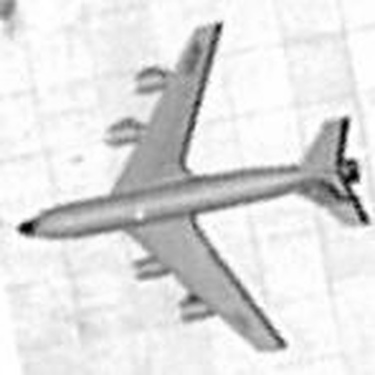airplane: (8, 9, 372, 369)
